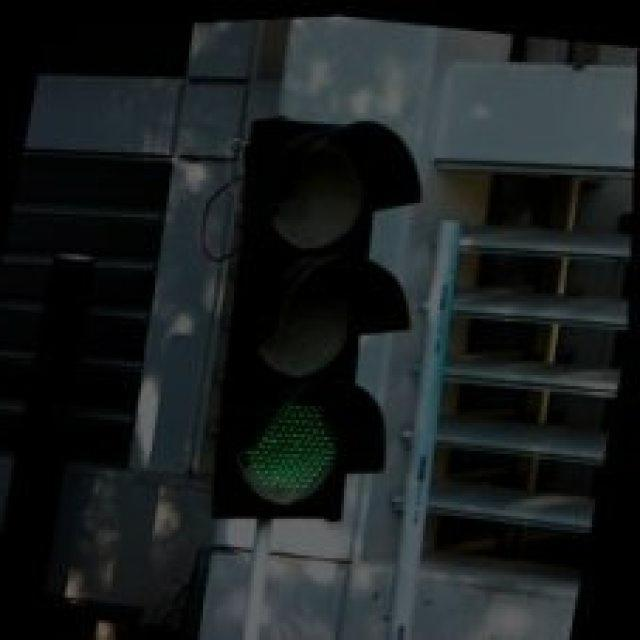Green: (204, 108, 423, 524)
